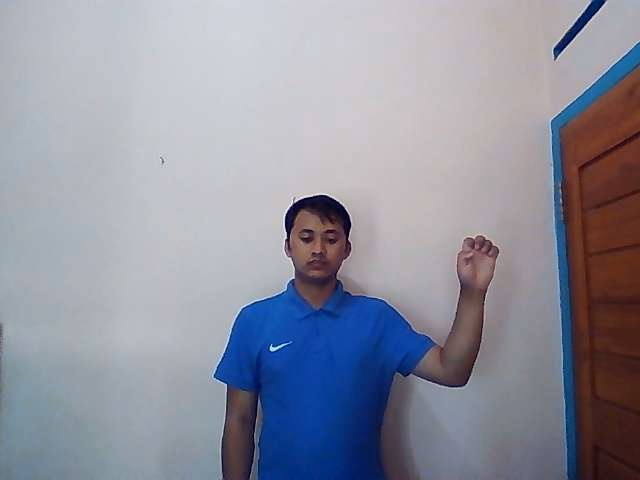E: (457, 235, 500, 292)
